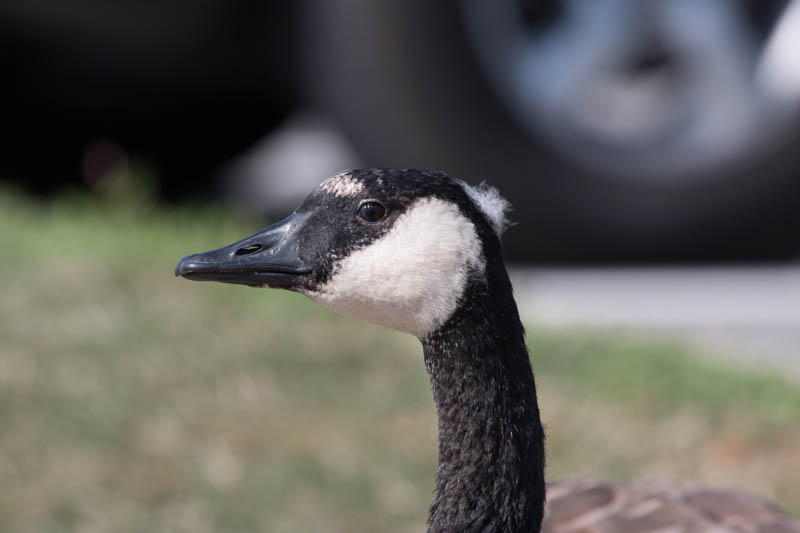goose-head: (174, 166, 513, 340)
